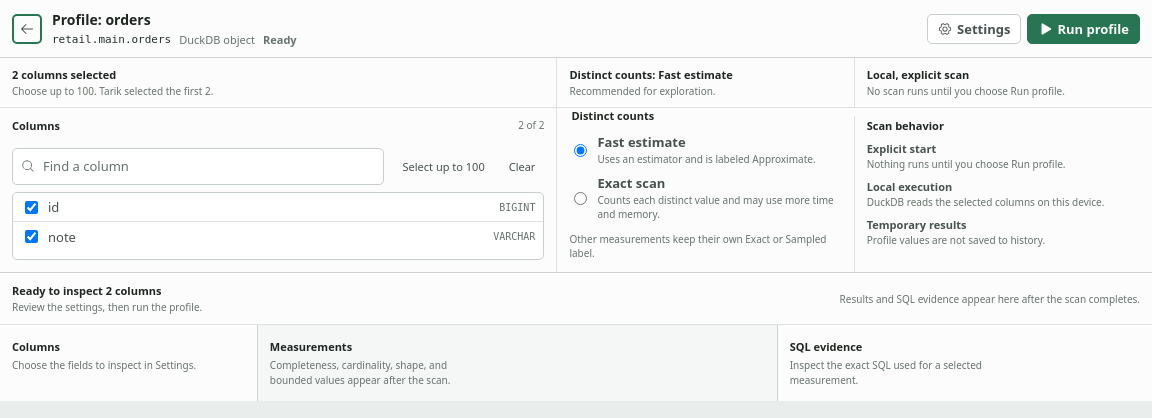
Scenario: ProfileWorkspace › shows an animated loading state with live elapsed time
Click the button "Run profile". click: (1084, 28)
box: [1027,14,1140,44]
Wait 1150 ms
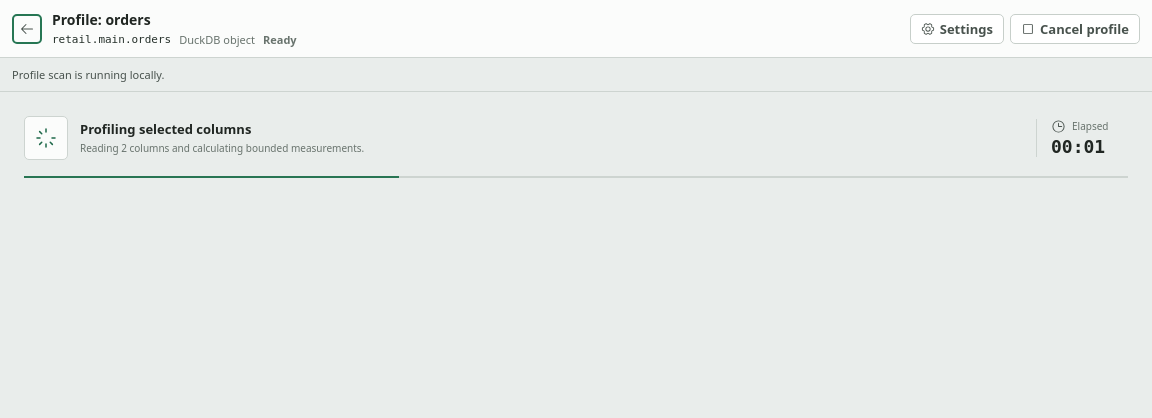
Expected: the message named "Profile loading" is shown, [0,92,1151,202]
Expected: the text "Profile is queued" is shown, [80,120,251,138]
Expected: the element named "Elapsed time 00:01" is shown, [1036,119,1128,157]
